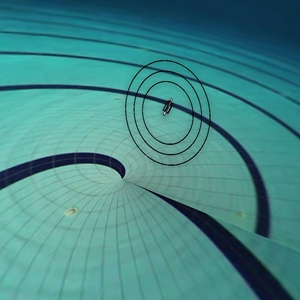circle: (114, 47, 227, 177)
submarine: (158, 96, 184, 121)
